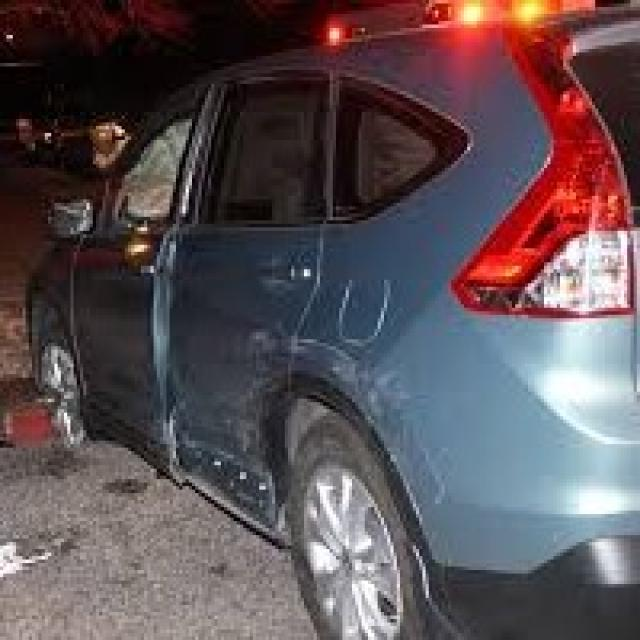minor: (95, 48, 249, 482)
moderate: (41, 246, 84, 479)
